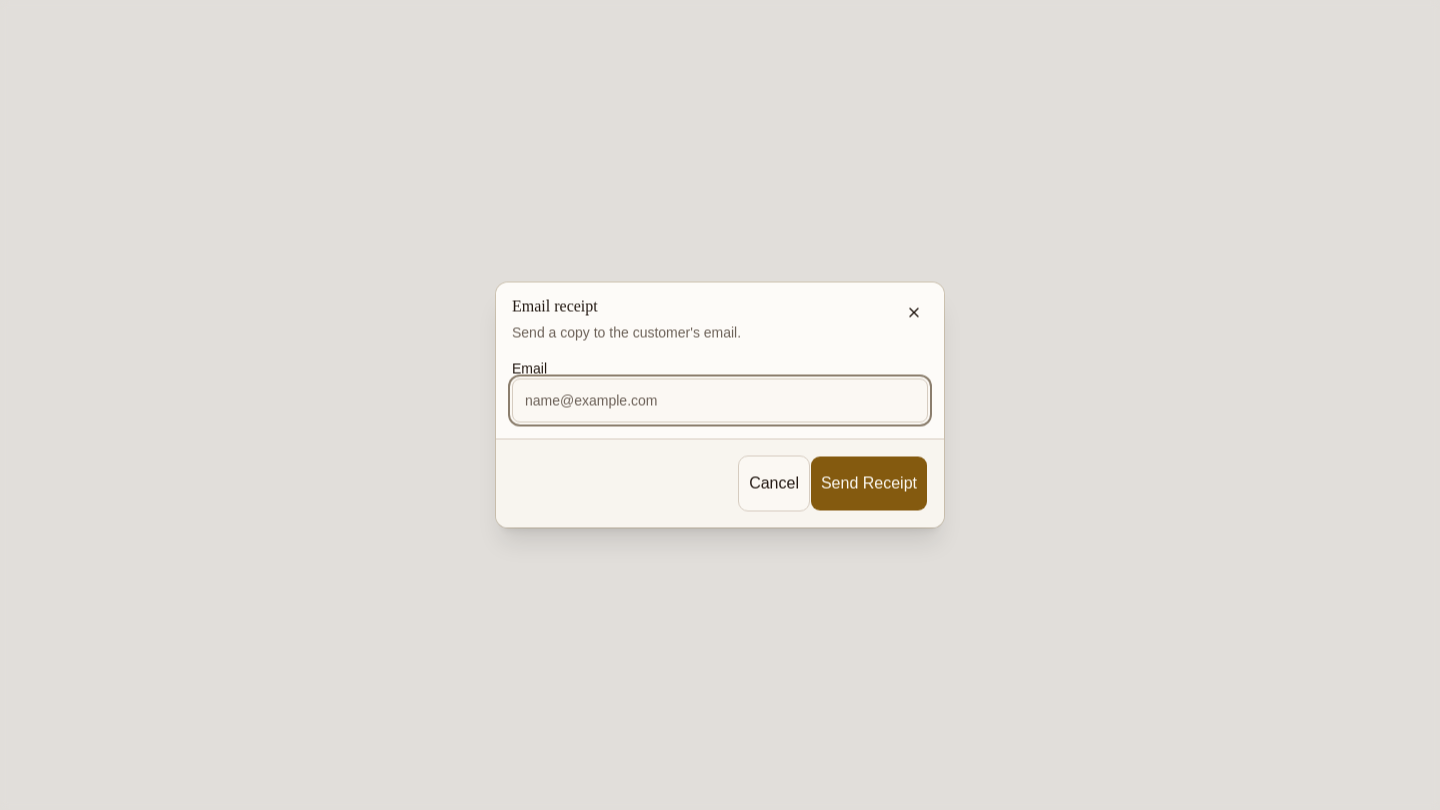
Test: EmailReceiptDialog › shows API error message when send fails
In the field labelled "Email": (720, 400) [512, 378, 928, 422], type "ok@example.com"
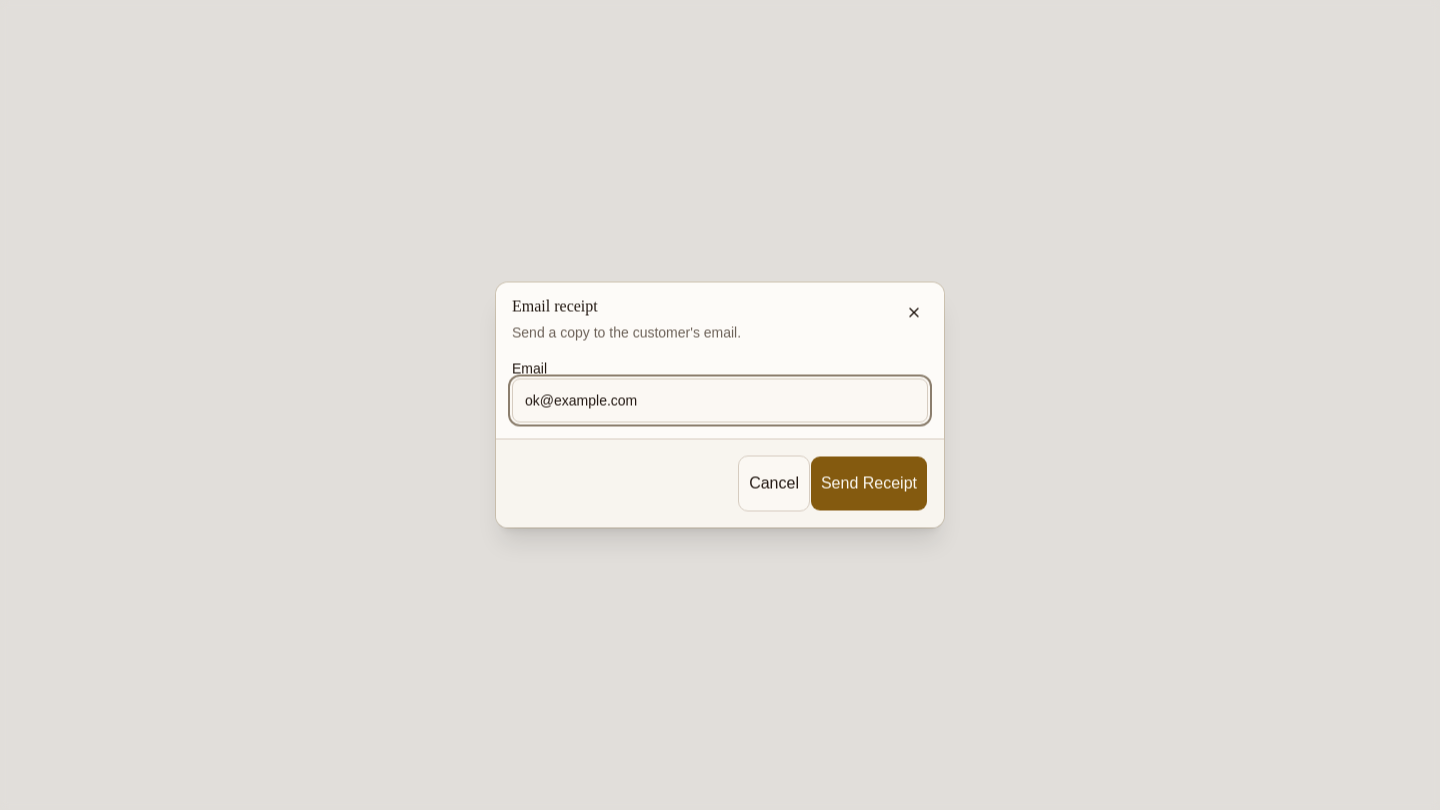
Click the button "Send Receipt": (869, 484) [810, 456, 928, 512]
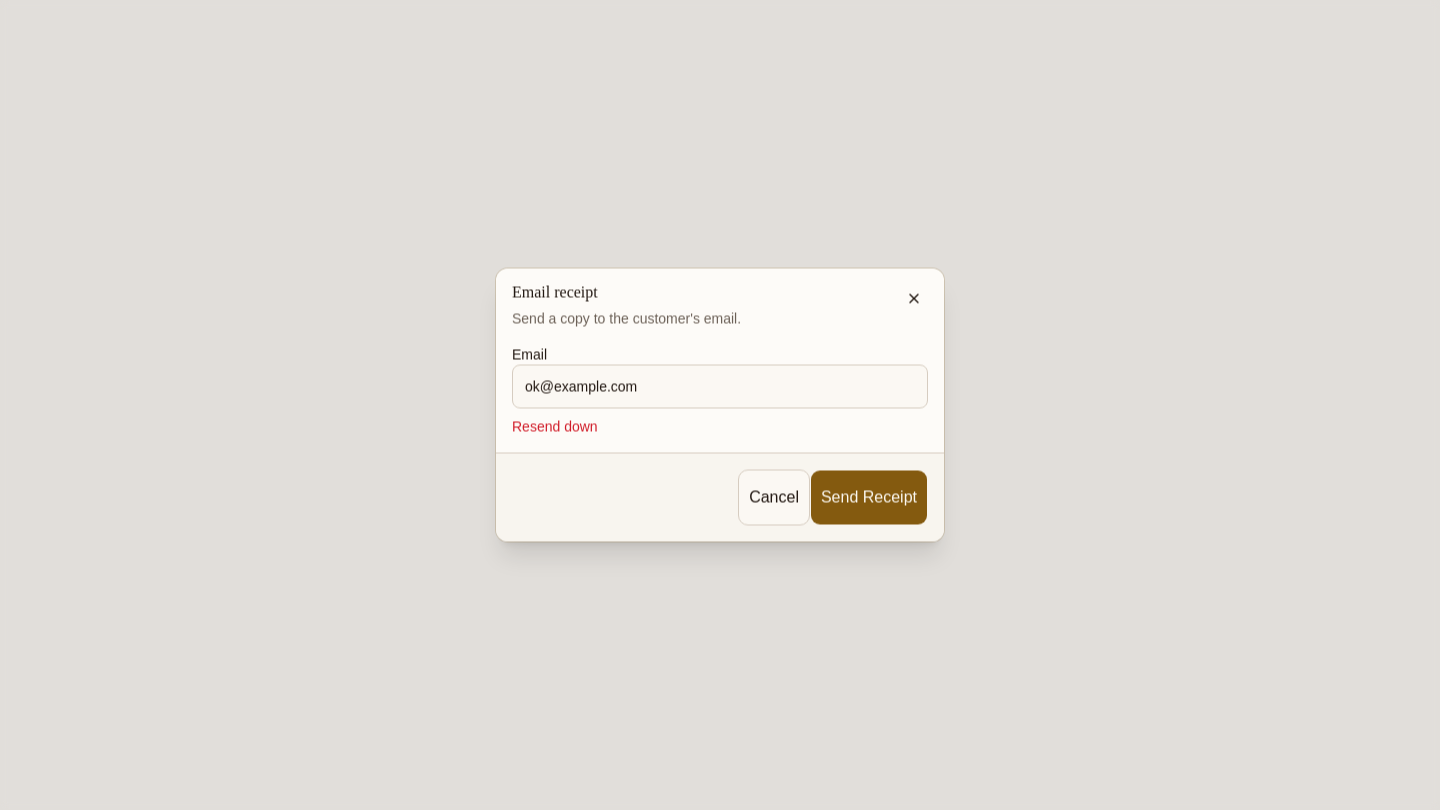
Expected: the text "Resend down" is shown, [512, 418, 598, 434]
